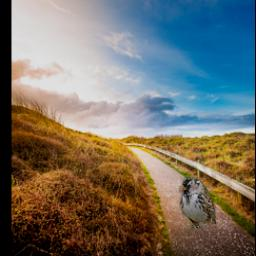Sparrow: (180, 178, 217, 232)
